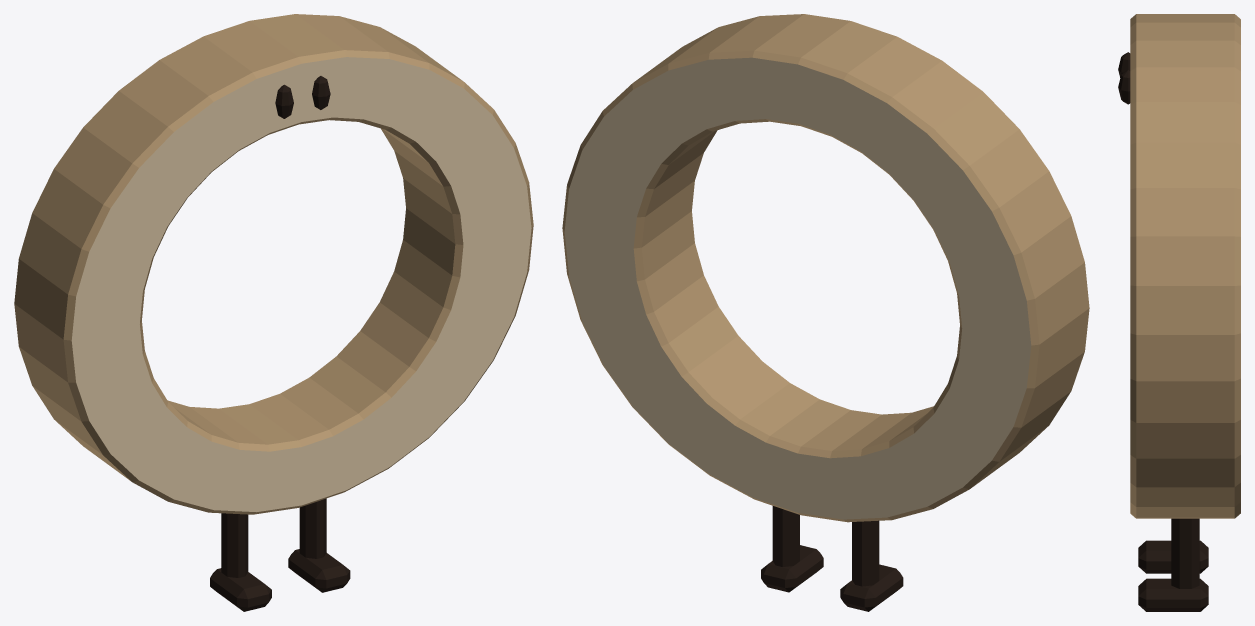
Rendered from ieung.glb.
The picture shows the model from 3 angles, left to right: view 1: azimuth 30°, elevation 25°; view 2: azimuth 150°, elevation 25°; view 3: azimuth 270°, elevation 25°; orthographic projection.
Parts seen in each view (by area): view 1: Glyph, Leg_L, Leg_R; view 2: Glyph, Leg_L, Leg_R; view 3: Glyph, Leg_R, Leg_L, Eye_R, Eye_L.
Boxes of the visible parts, x1=… form: Glyph: x1=14, y1=14, x2=533, y2=514; Leg_L: x1=210, y1=513, x2=271, y2=611; Leg_R: x1=288, y1=498, x2=350, y2=592; Glyph: x1=562, y1=14, x2=1089, y2=522; Leg_L: x1=840, y1=520, x2=903, y2=611; Leg_R: x1=761, y1=506, x2=823, y2=592; Glyph: x1=1130, y1=14, x2=1240, y2=518; Leg_R: x1=1138, y1=518, x2=1208, y2=611; Leg_L: x1=1138, y1=540, x2=1208, y2=573; Eye_R: x1=1118, y1=70, x2=1130, y2=104; Eye_L: x1=1118, y1=52, x2=1130, y2=77.
Size of the model in its own units: 0.54 by 0.6 by 0.122.
